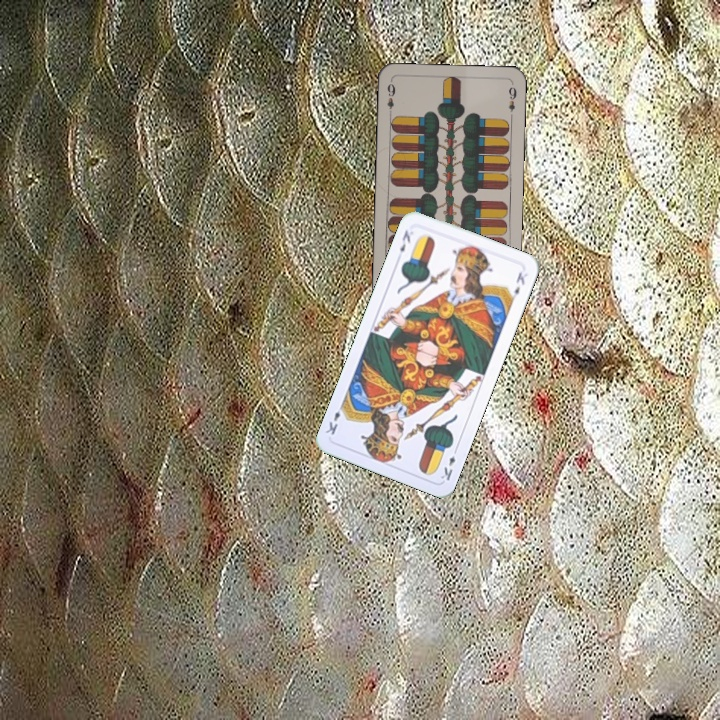E9: (383, 80, 398, 118)
EK: (437, 443, 460, 483), (396, 226, 413, 255)
